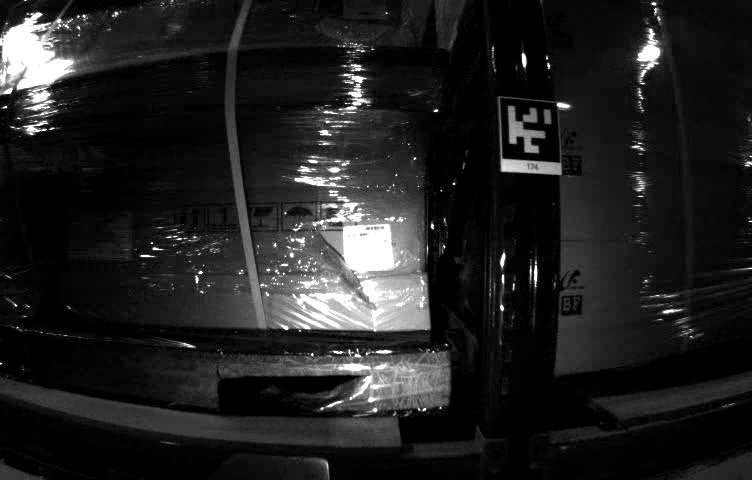True Barcode: (340, 224, 394, 268)
